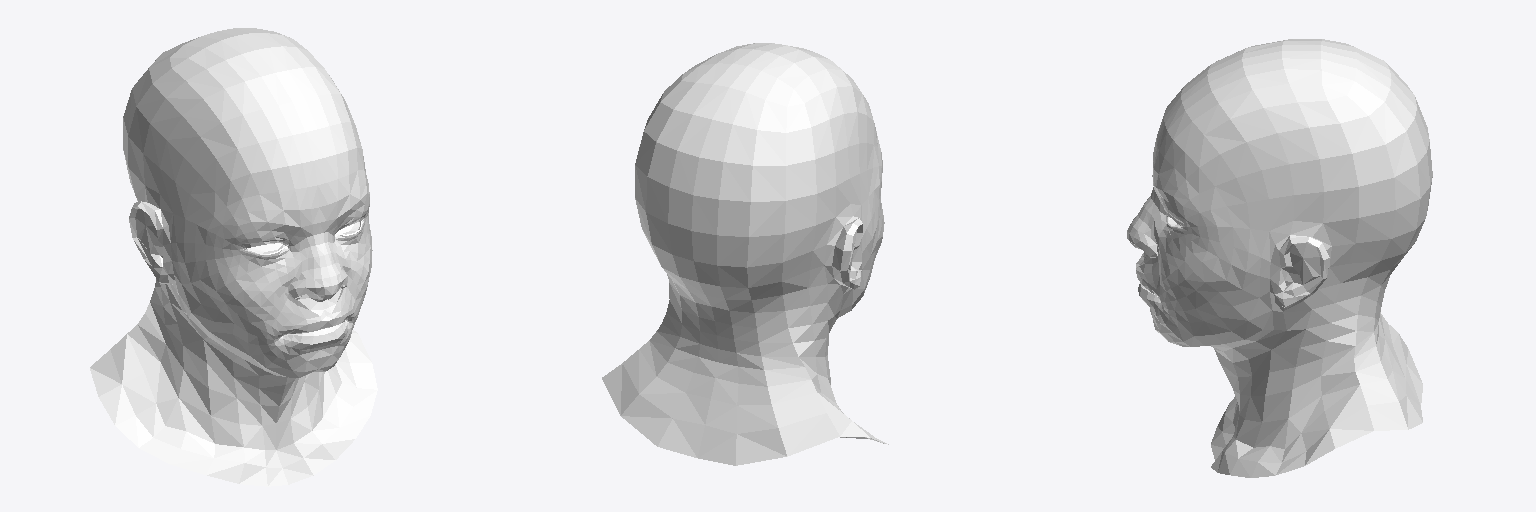
Rendered from african_head.obj.
3 renders of one model, left to right at view 1: azimuth 30°, elevation 25°; view 2: azimuth 150°, elevation 25°; view 3: azimuth 270°, elevation 25°, orthographic.
Parts seen in each view (by area): view 1: african_head; view 2: african_head; view 3: african_head.
Part boxes in pixels (x1,y1,x2,y2): african_head: (90, 28, 377, 486); african_head: (602, 43, 888, 465); african_head: (1127, 39, 1432, 477).
Bounding box in the file's own units: 2.64 × 3.98 × 2.69.